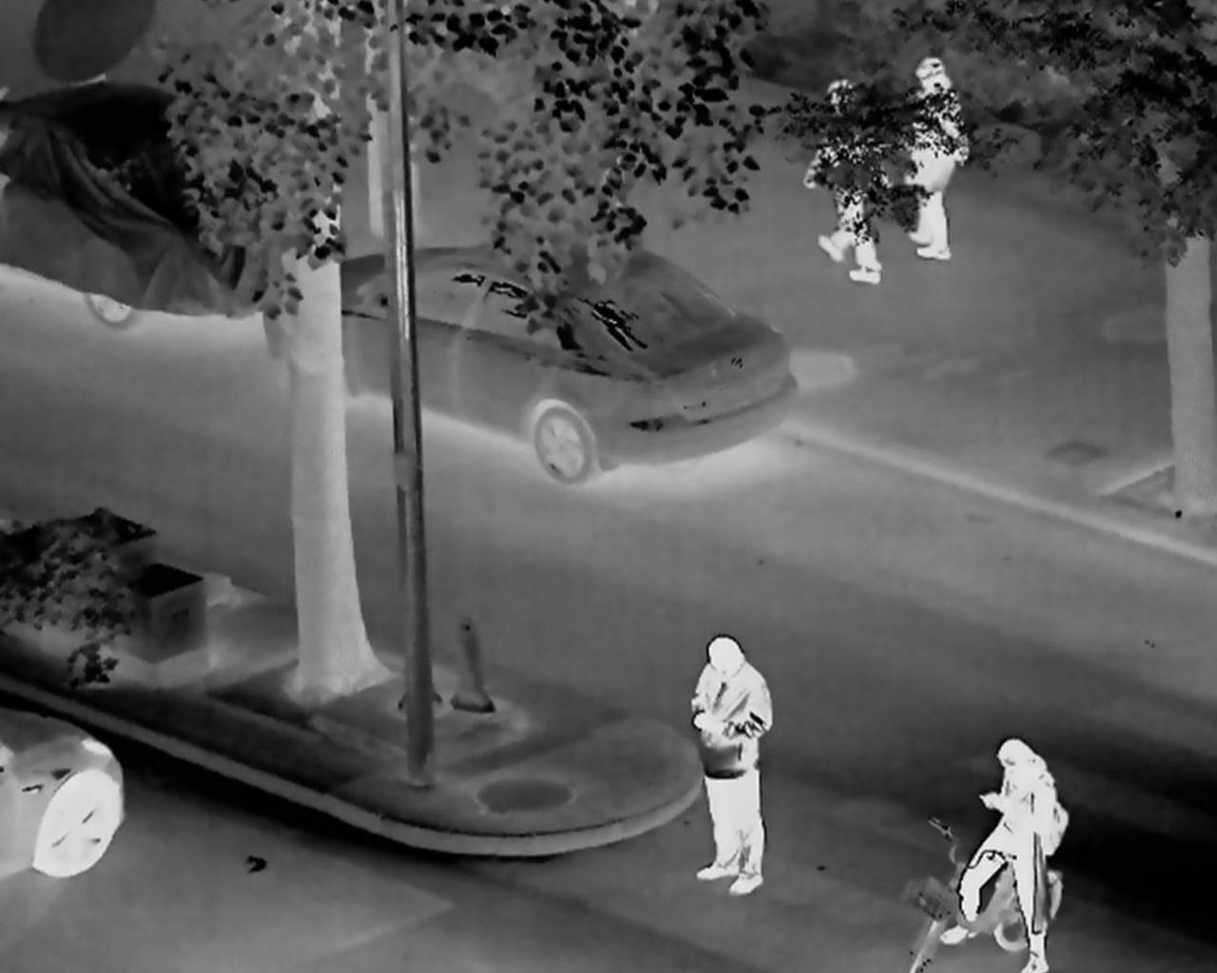person: (942, 739, 1063, 972), (687, 633, 772, 898), (806, 81, 891, 281), (890, 59, 968, 259)
